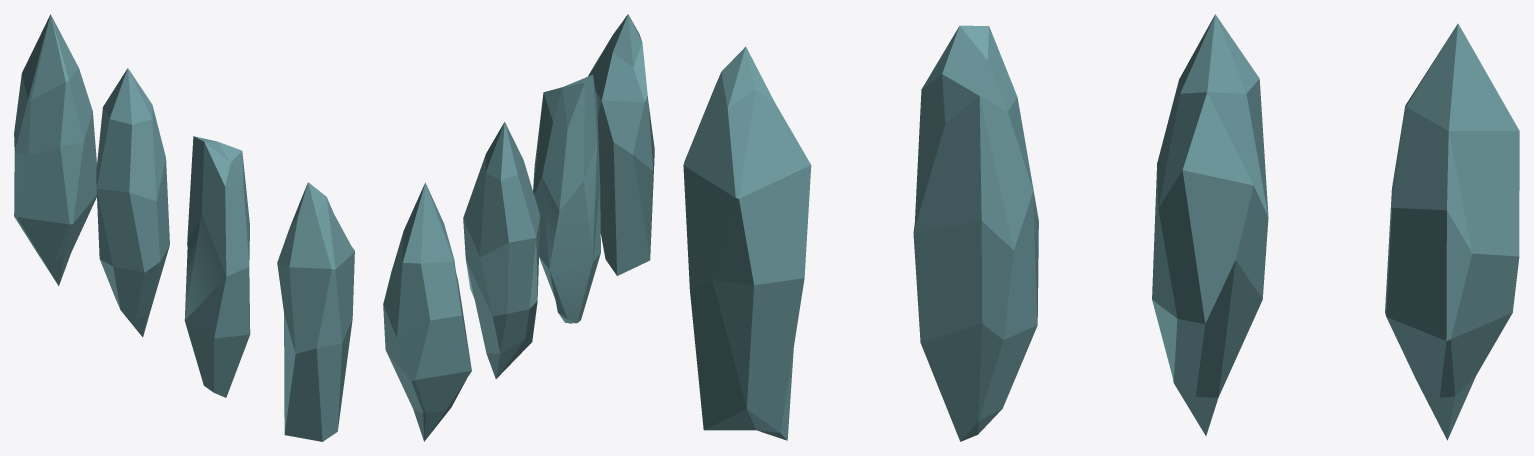
The model's file is Cristales fin.fbx.
3 renders of one model, left to right at view 1: azimuth 30°, elevation 25°; view 2: azimuth 150°, elevation 25°; view 3: azimuth 270°, elevation 25°, orthographic. The views are drawn at different scales.
Visible parts, largest first — view 1: pCone3, pCone6, pCone4, pCone5; view 2: pCone3, pCone4, pCone5, pCone6; view 3: pCone5, pCone3, pCone6, pCone4.
Part boxes in pixels (<box>): pCone3: <box>14,14,96,285</box>; pCone6: <box>277,182,354,441</box>; pCone4: <box>96,68,169,337</box>; pCone5: <box>184,136,250,397</box>; pCone3: <box>383,182,471,441</box>; pCone4: <box>463,122,540,378</box>; pCone5: <box>533,74,600,323</box>; pCone6: <box>588,14,654,275</box>; pCone5: <box>913,25,1038,441</box>; pCone3: <box>1385,23,1519,440</box>; pCone6: <box>683,46,811,440</box>; pCone4: <box>1152,14,1268,436</box>.
Bounding box in the file's own units: 1.68 × 3.99 × 7.17.
